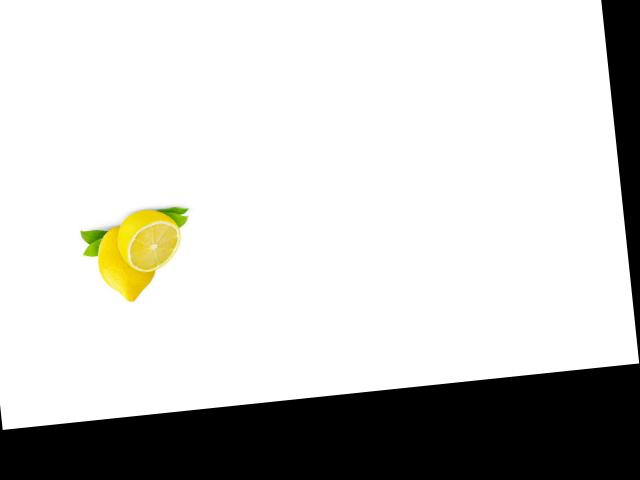lemon: (86, 215, 161, 306)
